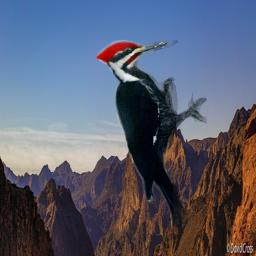Woodpecker: (96, 37, 207, 227)
